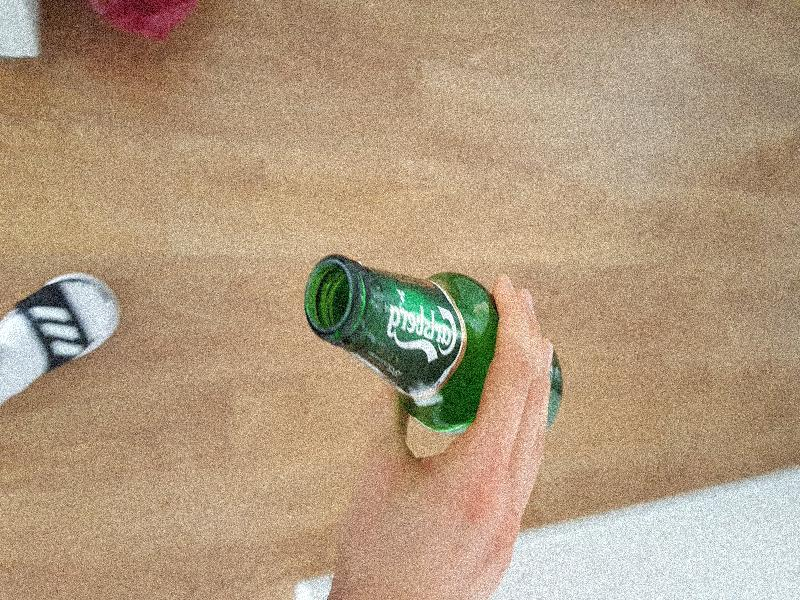Beer: (304, 252, 562, 432)
